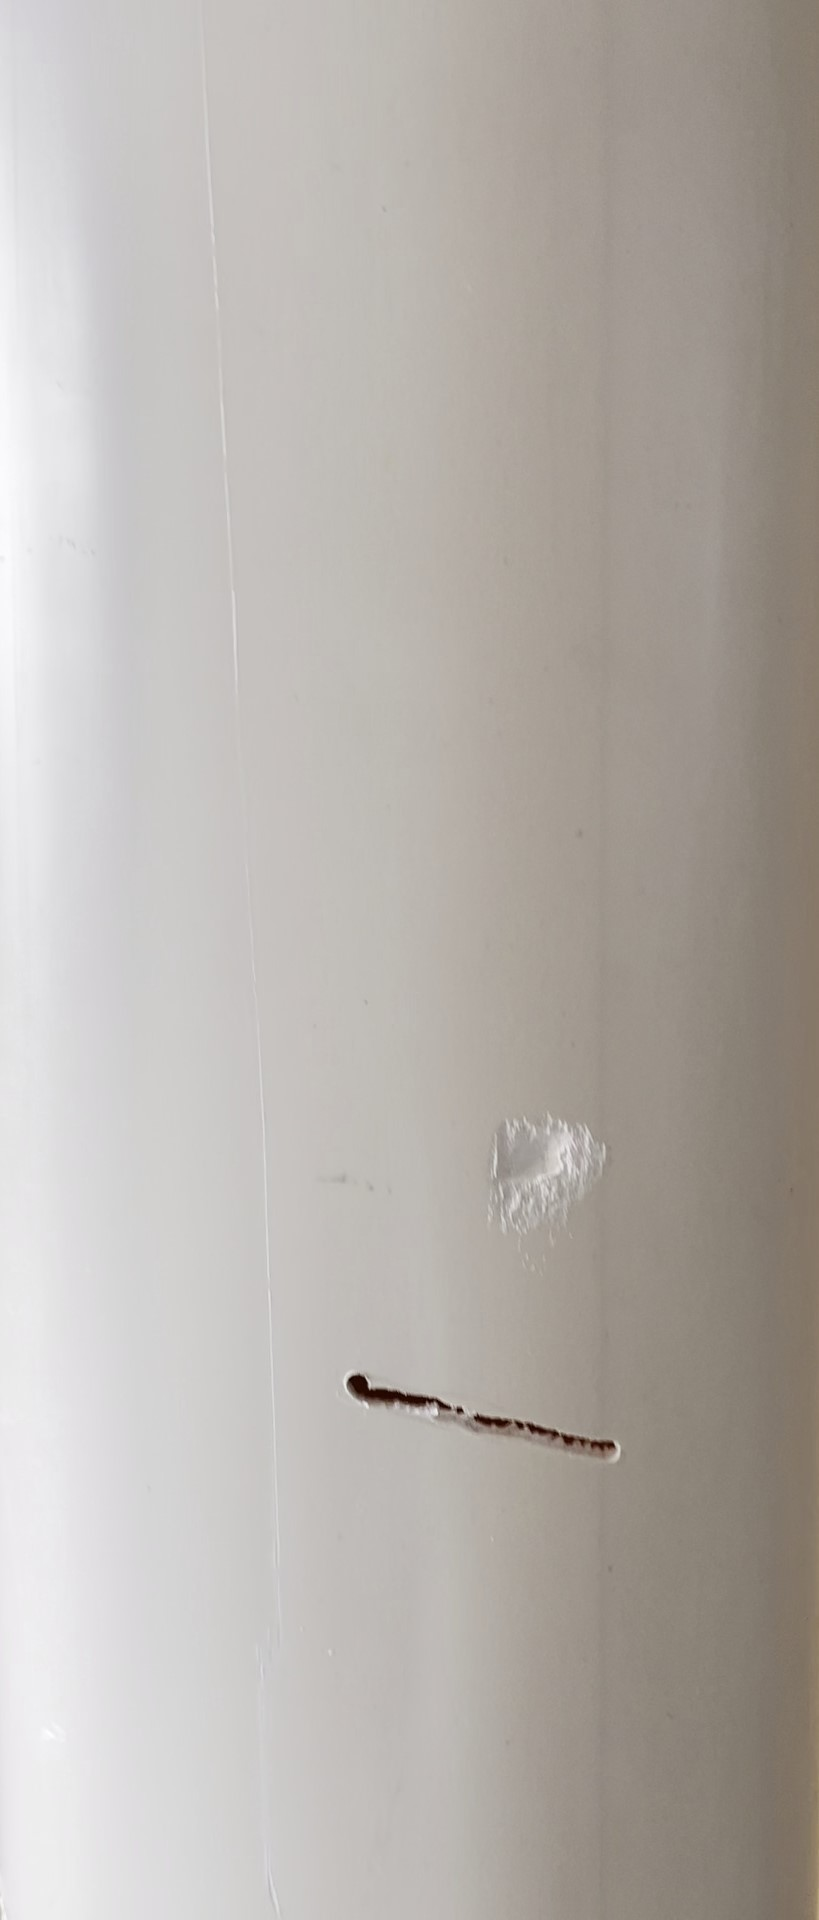fengxi: (345, 1356, 627, 1476)
sunshang: (484, 1095, 611, 1249)
